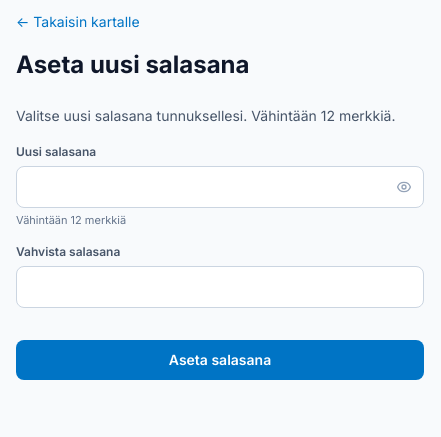
Test: ResetPasswordPage › shows the server error for an expired or already-used link
This screenshot has width=441, height=437.
Type "a-long-enough-password" into the password field labelled "Uusi salasana" at (220, 187), box x1=16 y1=166 x2=424 y2=208
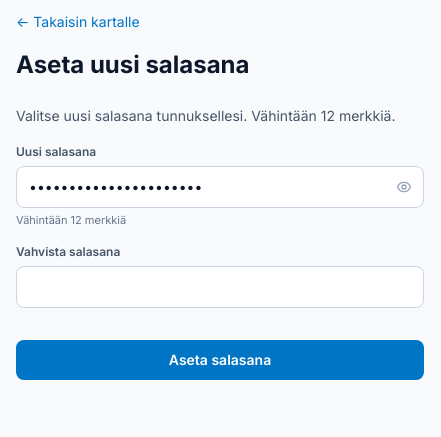
Type "a-long-enough-password" into the password field labelled "Vahvista salasana" at (220, 287), box x1=16 y1=266 x2=424 y2=308
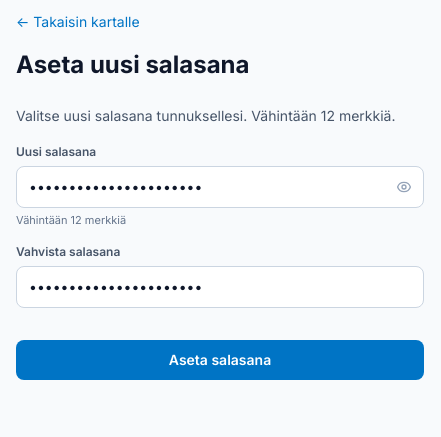
Click the button "Aseta salasana" at (220, 360), box x1=16 y1=340 x2=424 y2=380
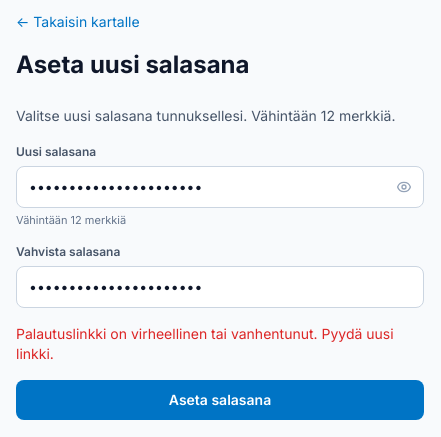
Expected: the text "Palautuslinkki on virheellinen tai vanhentunut. Pyydä uusi linkki." is shown, x1=16 y1=324 x2=424 y2=364
